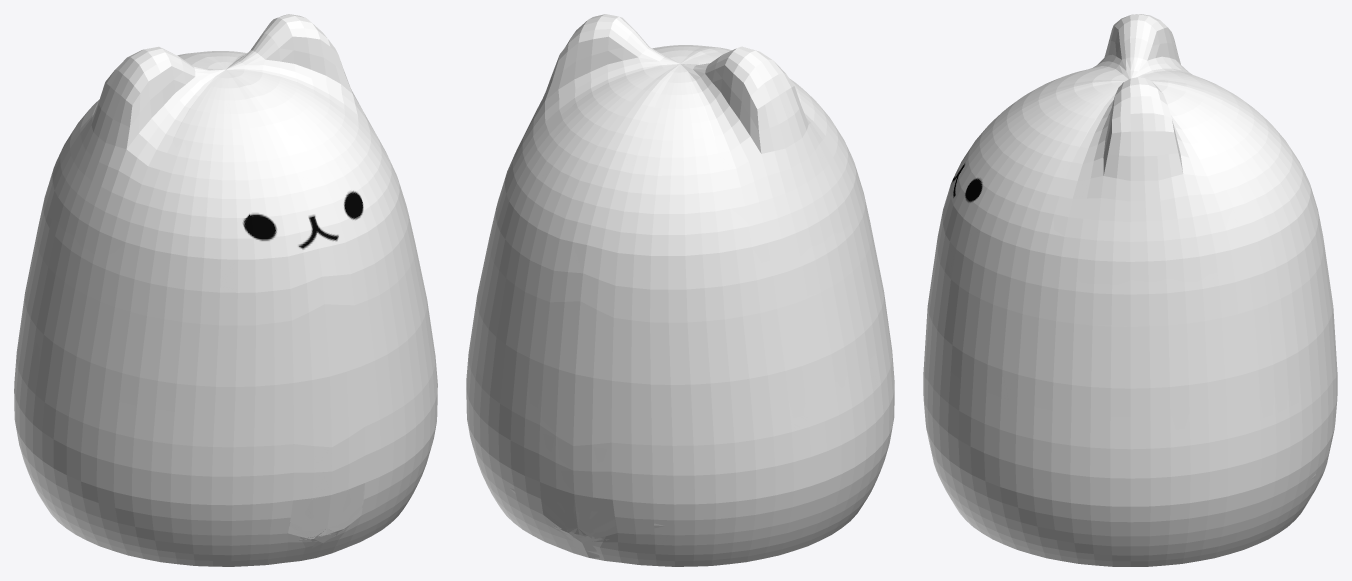
File: neko_v0.0_uv.fbx
3 renders of one model, left to right at view 1: azimuth 30°, elevation 25°; view 2: azimuth 150°, elevation 25°; view 3: azimuth 270°, elevation 25°, orthographic. The views are drawn at different scales.
Parts seen in each view (by area): view 1: 球; view 2: 球; view 3: 球.
Boxes of the visible parts, left/top/right/bottom form: 球: left=14, top=14, right=437, bottom=566; 球: left=466, top=14, right=894, bottom=566; 球: left=923, top=14, right=1337, bottom=566.
Size of the model in its own units: 11.5 by 11.5 by 13.62.
